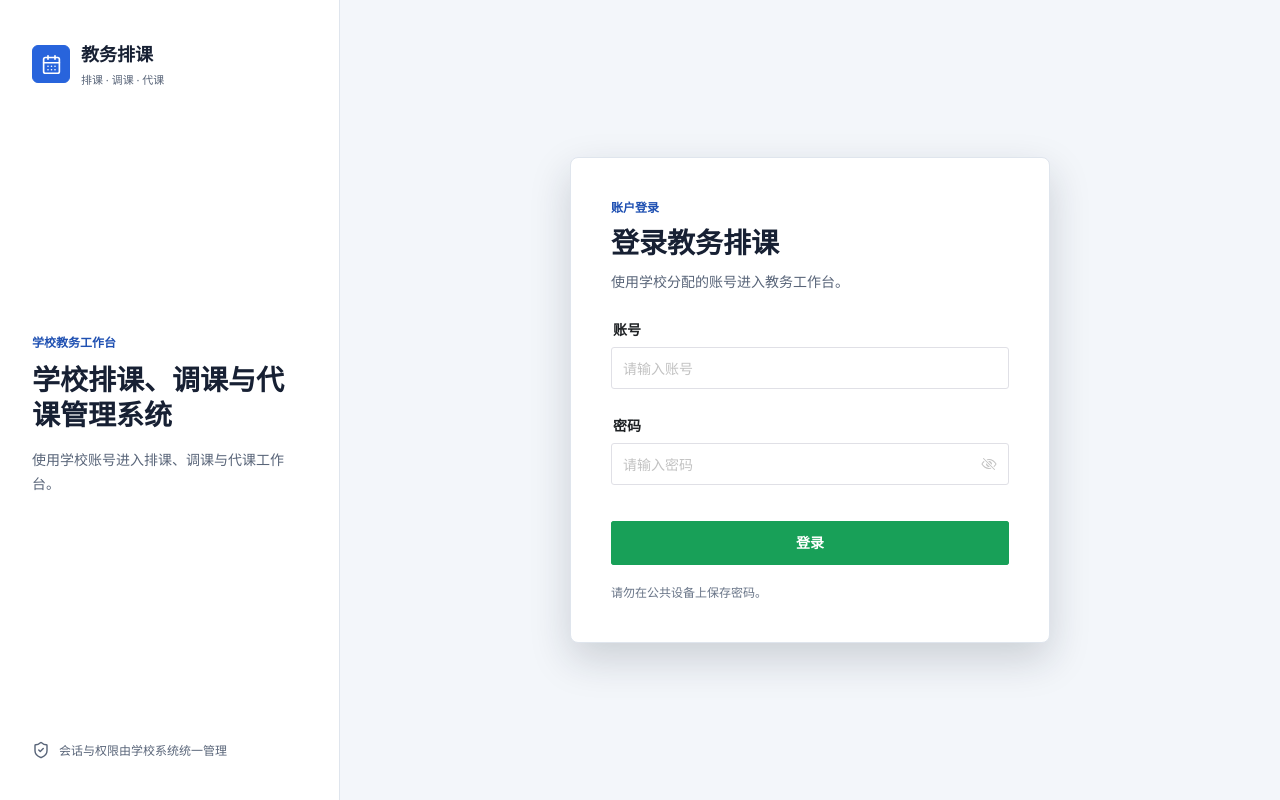
Test: Login › 把登录失败原因显示在页面上
The width and height of the screenshot is (1280, 800).
In the field with placeholder "请输入账号": (810, 364) [623,347,997,381], type "director"
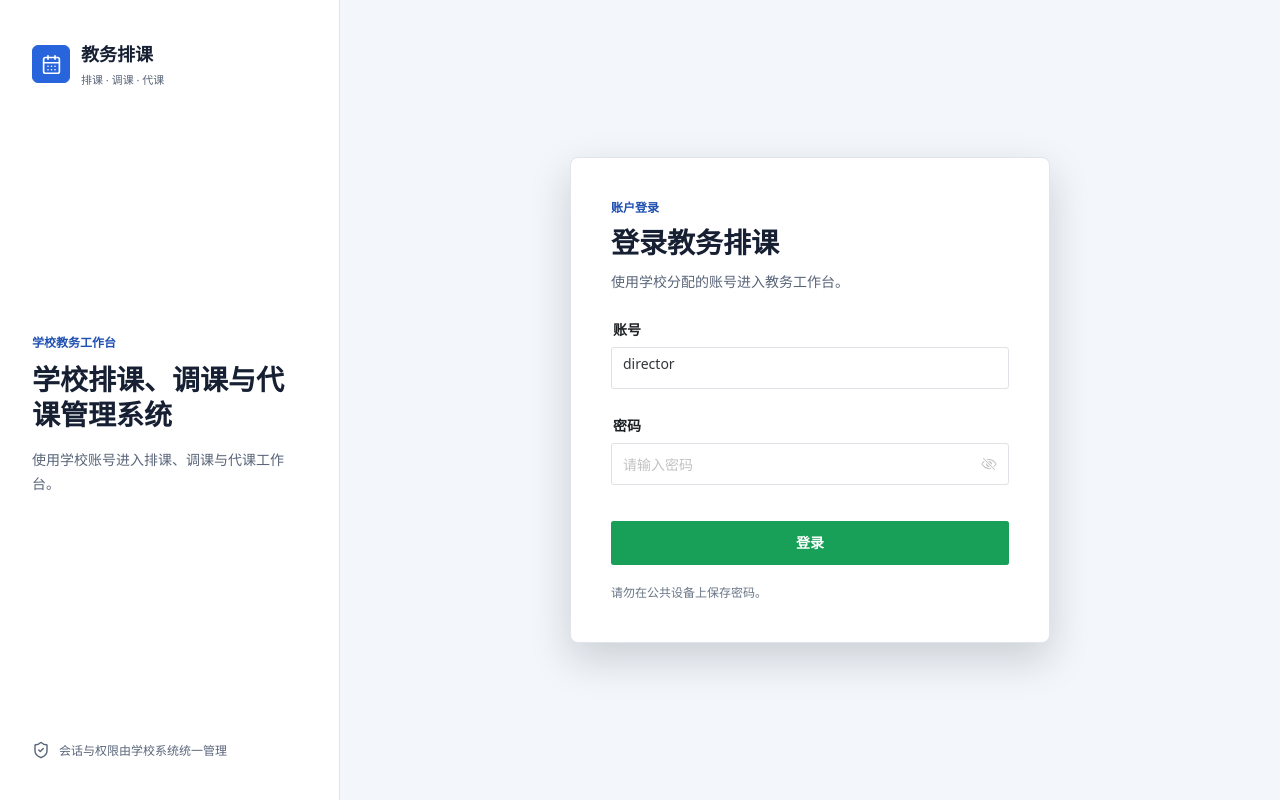
In the password field with placeholder "请输入密码": (800, 460) [623,443,977,477], type "wrong"
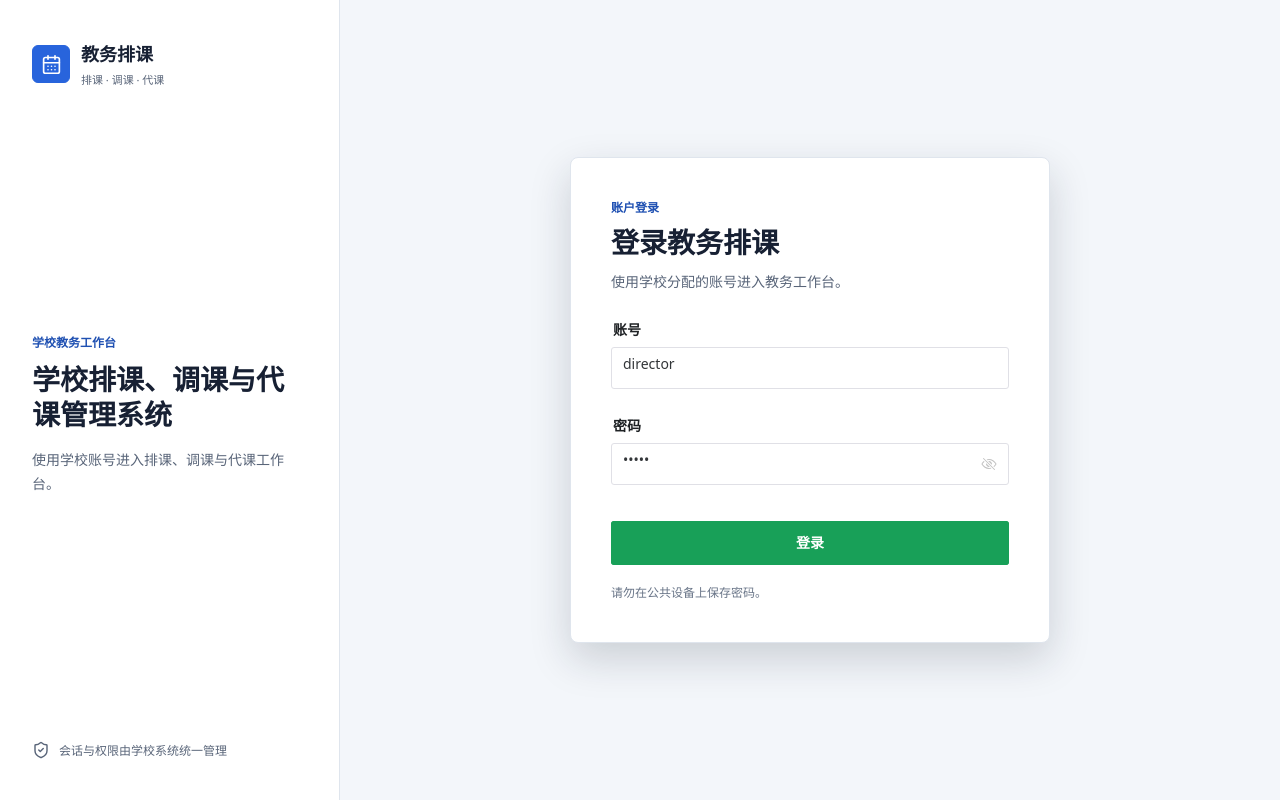
Submit the form, box [611,321,1009,565]
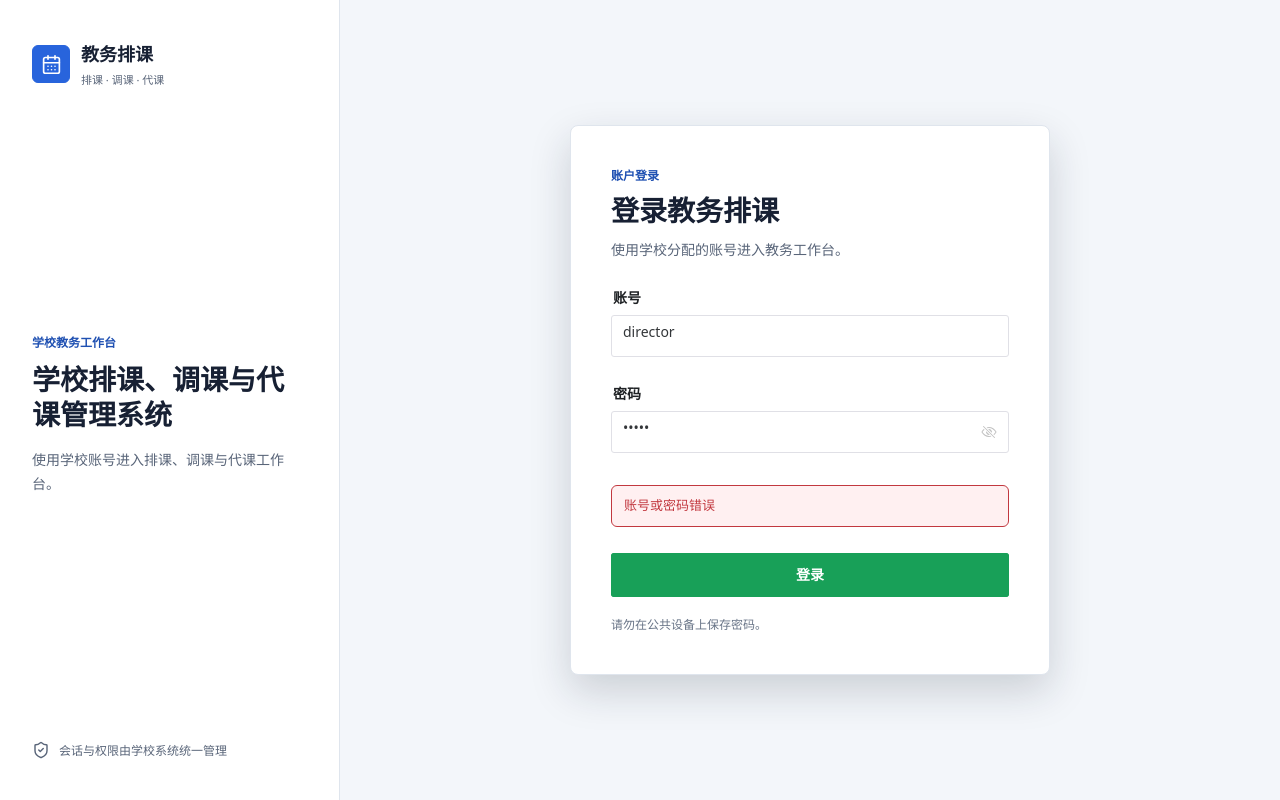
Expected: the message with test id "login-feedback" reads "账号或密码错误", [624,496,715,514]
